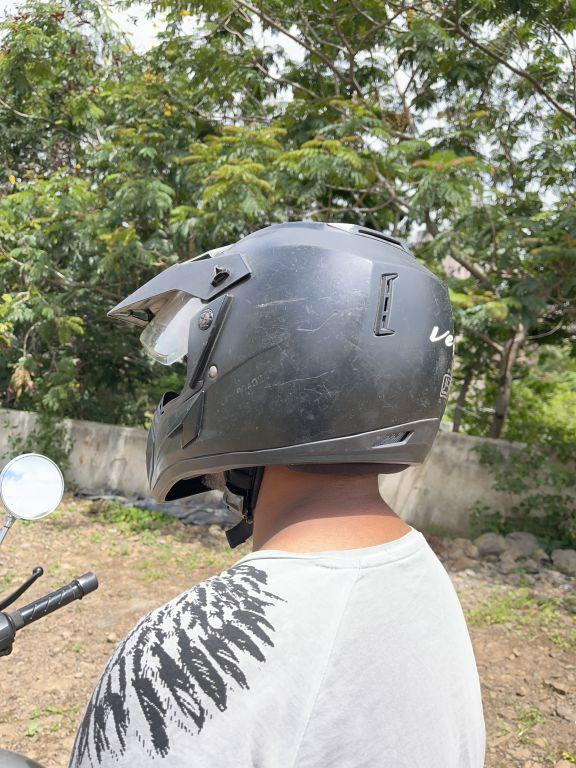helmet: (99, 212, 464, 518)
